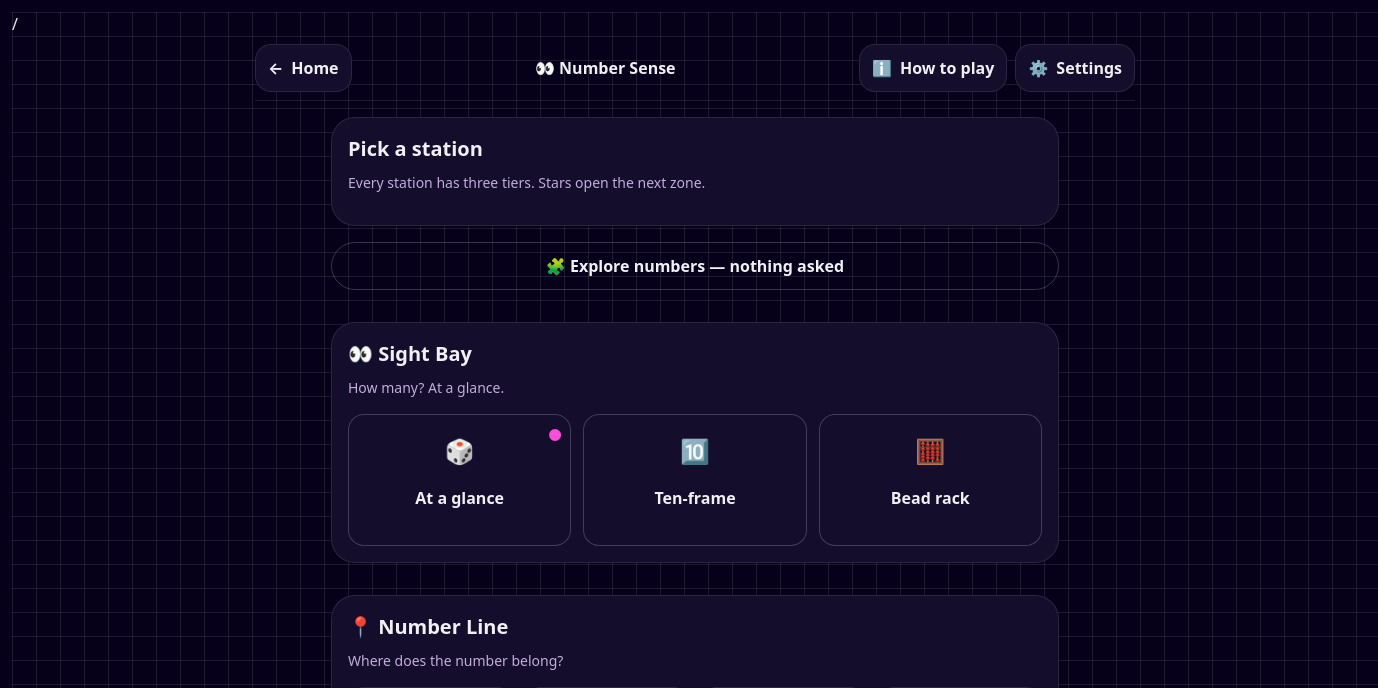
Test: NumberSensePage › sends a tap to that station drill
The width and height of the screenshot is (1378, 688).
Click the button "🎲 At a glance ●": (460, 480) [348,414,571,546]
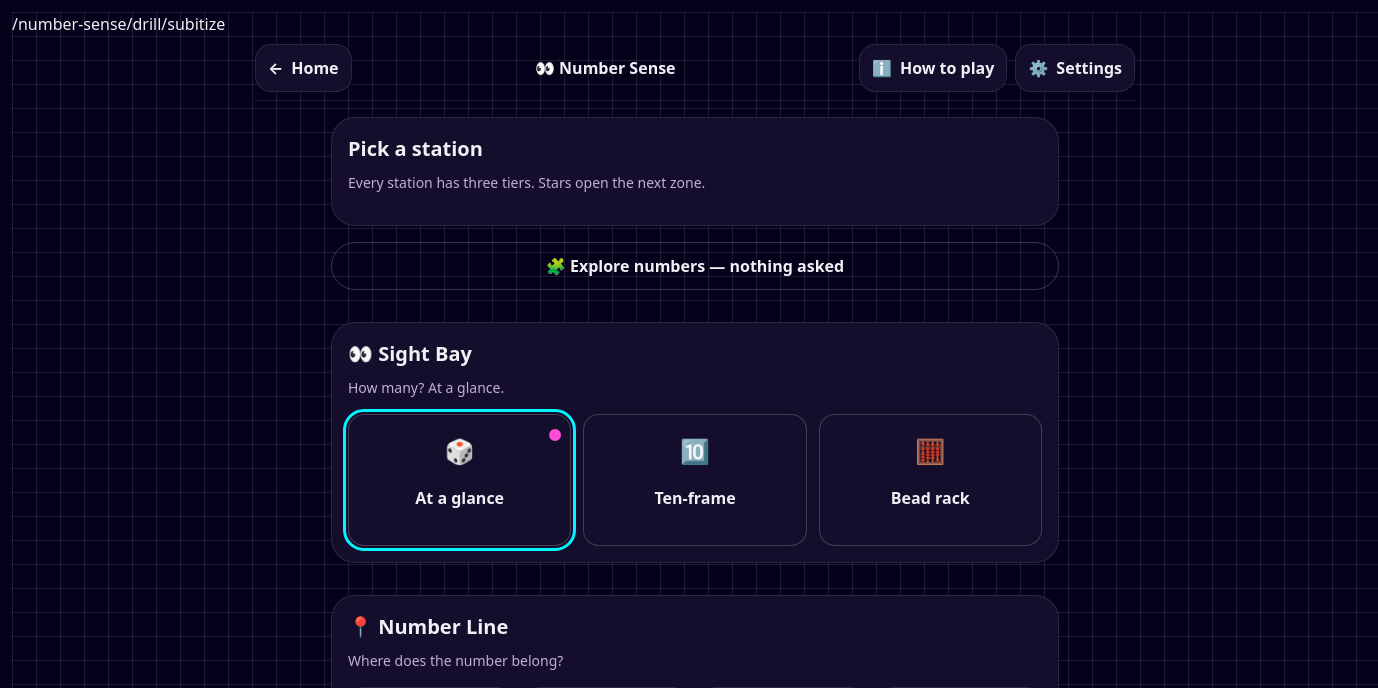
Expected: the text with test id "test-location" reads "/number-sense/drill/subitize", [12,13,225,35]
